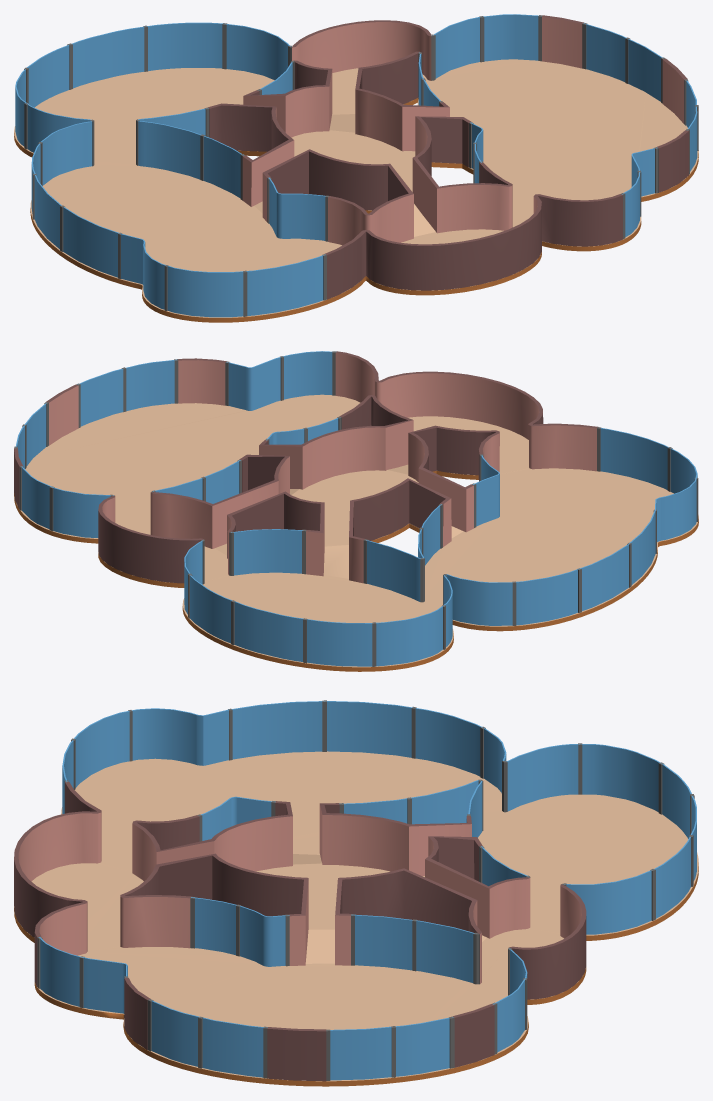
The model's file is Raum_smallModel.fbx.
The picture shows the model from 3 angles, top to bottom: view 1: azimuth 30°, elevation 25°; view 2: azimuth 150°, elevation 25°; view 3: azimuth 270°, elevation 25°; orthographic projection. The views are drawn at different scales.
Visible parts, largest first — view 1: smallModel_floor, smallModel_walls, smallModel_glass, smallModel_beams; view 2: smallModel_floor, smallModel_glass, smallModel_walls, smallModel_beams; view 3: smallModel_floor, smallModel_glass, smallModel_walls, smallModel_beams.
Part boxes in pixels (x1,y1,x2,y2): smallModel_floor: (14,59,698,322); smallModel_walls: (208,15,688,299); smallModel_glass: (15,14,697,317); smallModel_beams: (24,15,698,316); smallModel_floor: (14,394,698,671); smallModel_glass: (15,351,697,666); smallModel_walls: (14,351,597,583); smallModel_beams: (14,351,698,666); smallModel_floor: (14,751,698,1086); smallModel_glass: (39,701,696,1080); smallModel_walls: (14,782,586,1081); smallModel_beams: (37,700,694,1080).
Size of the model in its own units: 10336 by 984 by 9040.
